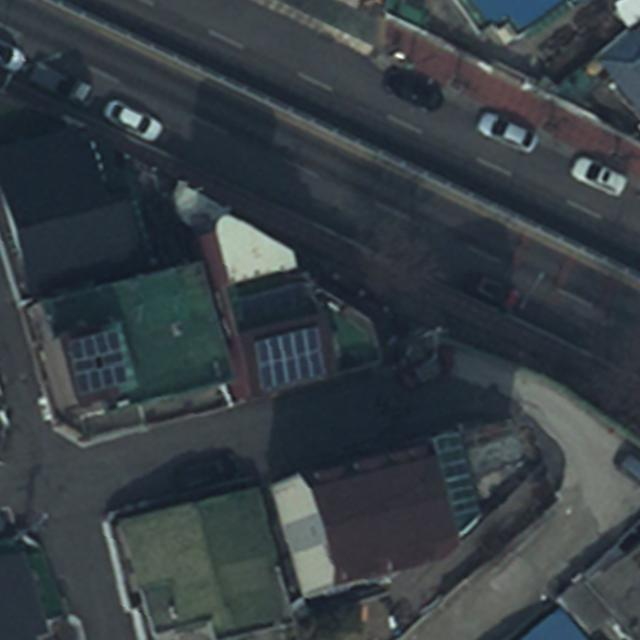panel: (252, 324, 324, 390), (64, 328, 128, 394)
